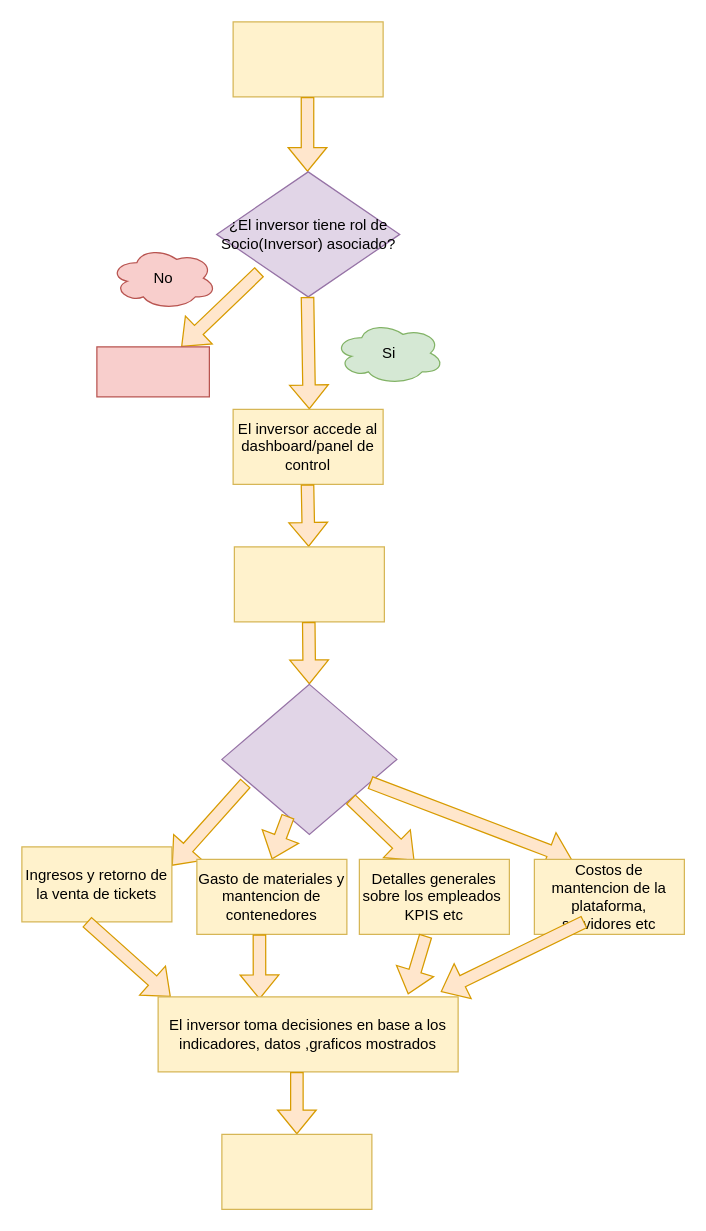
This 706x1231 diagram has some shape labels left out. Each missing label, with the box of its shape:
El backend consulta la base de datos y consulta los datos en tiempo real: (233, 546, 384, 622)
El inversionista cierra la sesion: (221, 1133, 372, 1209)
El inversor ingresa a la plataforma como usuario: (232, 21, 383, 97)
Fin: (96, 346, 209, 397)
¿Cual informacion desea revisar el inversionista?: (221, 683, 397, 834)
